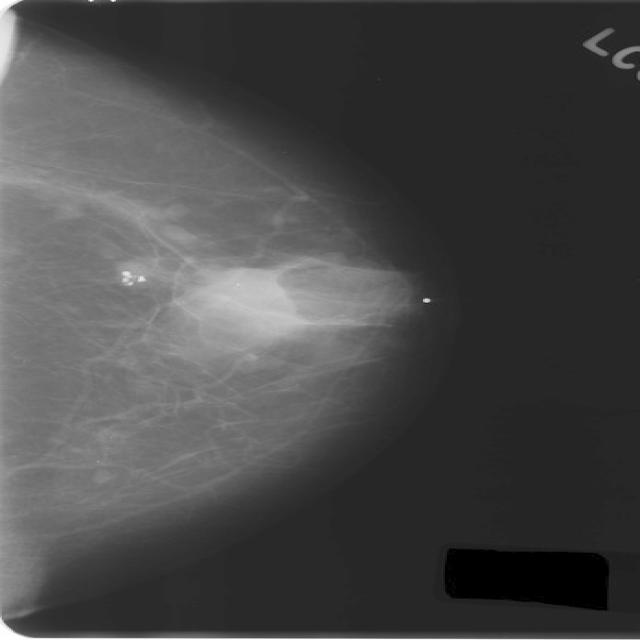tumour: (171, 262, 316, 339)
